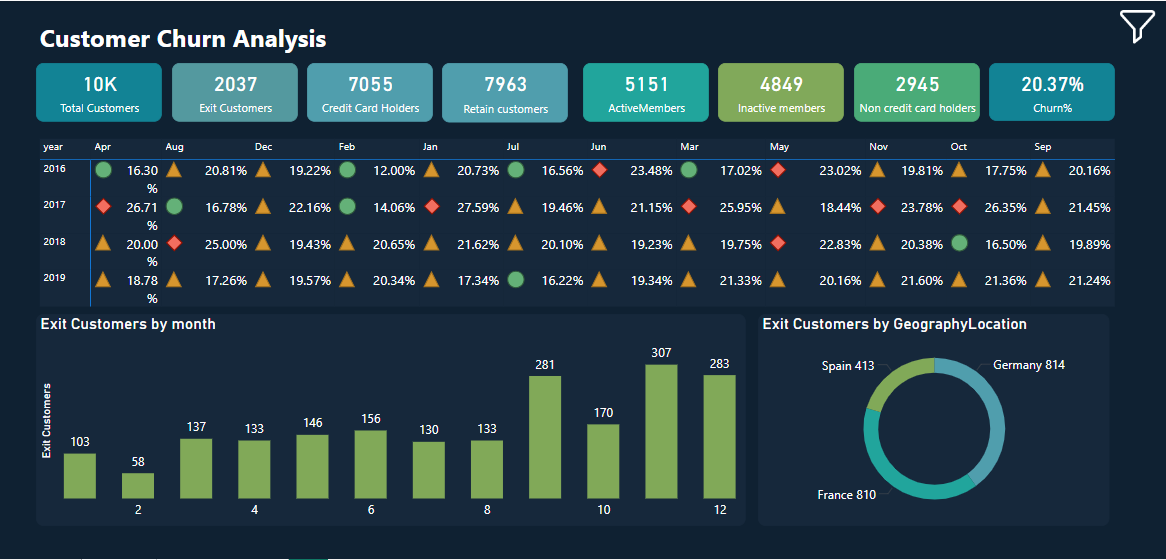

Layout of this report page (visuals, bound fields, positions):
{"tool":"powerbi","page":{"name":"MORE INSIGHTS","canvas":[1530,732],"ordinal":1},"visuals":[{"type":"card","fields":{"Values":["Active customers.Total Customers"]},"box":[47.8,80.8,165,76.8],"z":0},{"type":"card","fields":{"Values":["Active customers.Activw Members"]},"box":[765,80.8,165,76.5],"z":1000},{"type":"card","fields":{"Values":["Active customers.Inactive members"]},"box":[942.5,80.8,165,76.5],"z":2000},{"type":"card","fields":{"Values":["Active customers.Credit Card Holders"]},"box":[402.9,80.8,165,76.5],"z":3000},{"type":"card","fields":{"Values":["Active customers.Non credit card holders"]},"box":[1120.1,80.8,165,76.5],"z":4000},{"type":"card","fields":{"Values":["Active customers.Exit Customers"]},"box":[225.3,80.8,165,76.5],"z":5000},{"type":"card","fields":{"Values":["Active customers.Retain customers"]},"box":[580.4,80.8,165,77.8],"z":9000},{"type":"card","fields":{"Values":["Active customers.Churn%"]},"box":[1297.6,80.8,165,76.4],"z":11000},{"type":"textbox","box":[47.8,20.5,719.8,66.5],"z":16000},{"type":"image","box":[1454.9,0,75.1,64.8],"z":18000},{"type":"pivotTable","fields":{"Rows":["Date Master.year"],"Columns":["Date Master.Month Name"],"Values":["Active customers.Churn%"]},"box":[47.8,175.7,1427.7,235.4],"z":18001},{"type":"pieChart","fields":{"Category":["Geography.GeographyLocation"],"Y":["Active customers.Exit Customers"]},"box":[994.4,411.1,460.5,278],"z":18002},{"type":"clusteredColumnChart","fields":{"Y":["Active customers.Exit Customers"],"Category":["Date Master.month"]},"box":[47.8,411.1,931.3,278],"z":18003}]}

Visuals, with their boxes in screenshot pixels (x1, y1, x2, y2), scaled from the page's 1530x732 canvas onto the 1166x560 screenshot:
card - Active customers.Total Customers: [x1=36, y1=62, x2=162, y2=121]
card - Active customers.Activw Members: [x1=583, y1=62, x2=709, y2=120]
card - Active customers.Inactive members: [x1=718, y1=62, x2=844, y2=120]
card - Active customers.Credit Card Holders: [x1=307, y1=62, x2=433, y2=120]
card - Active customers.Non credit card holders: [x1=854, y1=62, x2=979, y2=120]
card - Active customers.Exit Customers: [x1=172, y1=62, x2=297, y2=120]
card - Active customers.Retain customers: [x1=442, y1=62, x2=568, y2=121]
card - Active customers.Churn%: [x1=989, y1=62, x2=1115, y2=120]
textbox: [x1=36, y1=16, x2=585, y2=67]
image: [x1=1109, y1=0, x2=1165, y2=50]
pivotTable - Date Master.year x Date Master.Month Name: [x1=36, y1=134, x2=1124, y2=315]
pieChart - Geography.GeographyLocation x Active customers.Exit Customers: [x1=758, y1=315, x2=1109, y2=527]
clusteredColumnChart - Active customers.Exit Customers x Date Master.month: [x1=36, y1=315, x2=746, y2=527]
